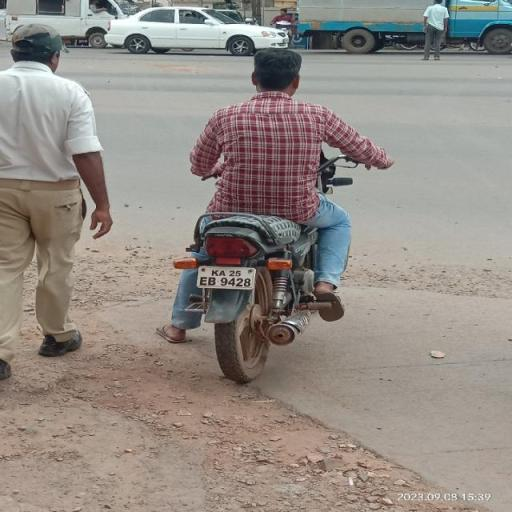bike: (158, 40, 396, 384)
numberplate: (196, 266, 255, 290)
withouthelmet: (254, 50, 300, 92)
